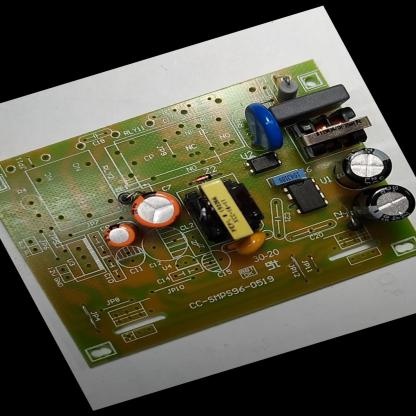Cap1: (123, 186, 188, 234)
Cap2: (97, 218, 142, 252)
Cap3: (325, 141, 401, 194)
Cap4: (342, 178, 416, 233)
MOSFET: (281, 175, 331, 217)
Mov: (231, 99, 292, 157)
Resistor: (269, 75, 304, 102)
Transformer: (175, 172, 272, 252), (286, 100, 380, 160)
